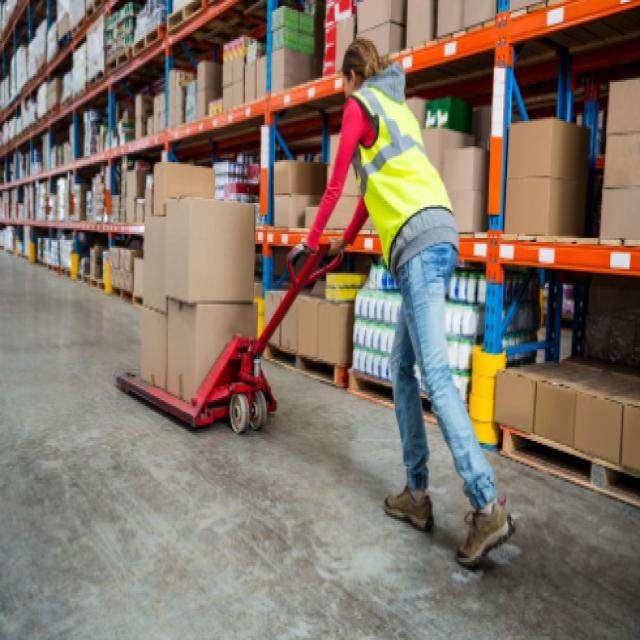shoes: (379, 476, 522, 576)
vest: (338, 80, 458, 270)
